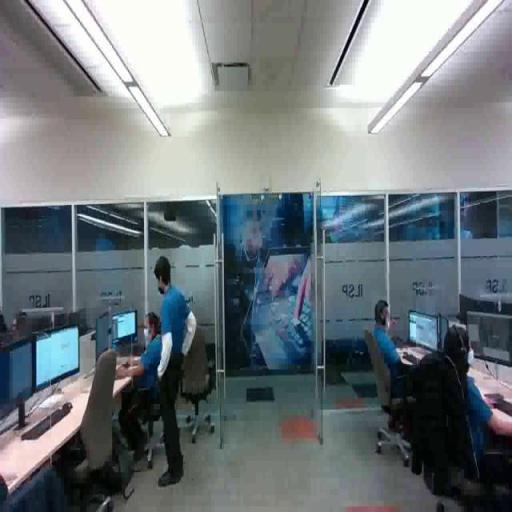person: (406, 320, 512, 505), (150, 255, 200, 490), (362, 291, 422, 461), (104, 303, 165, 468)
